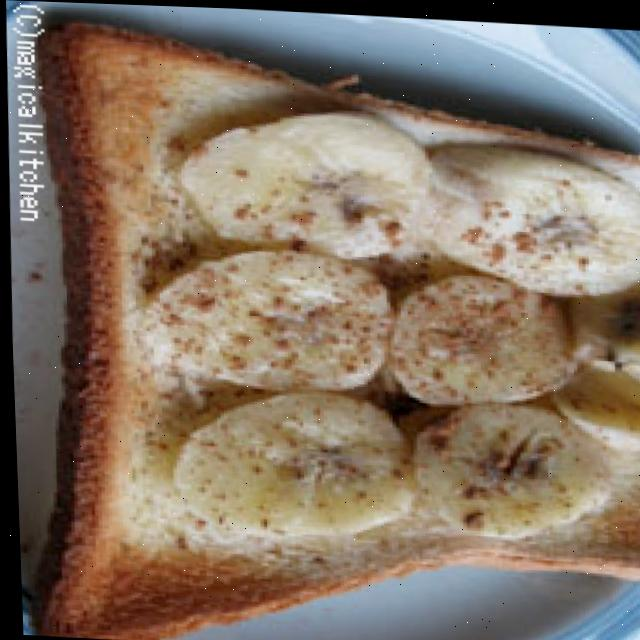面包点心: (37, 30, 640, 638)
